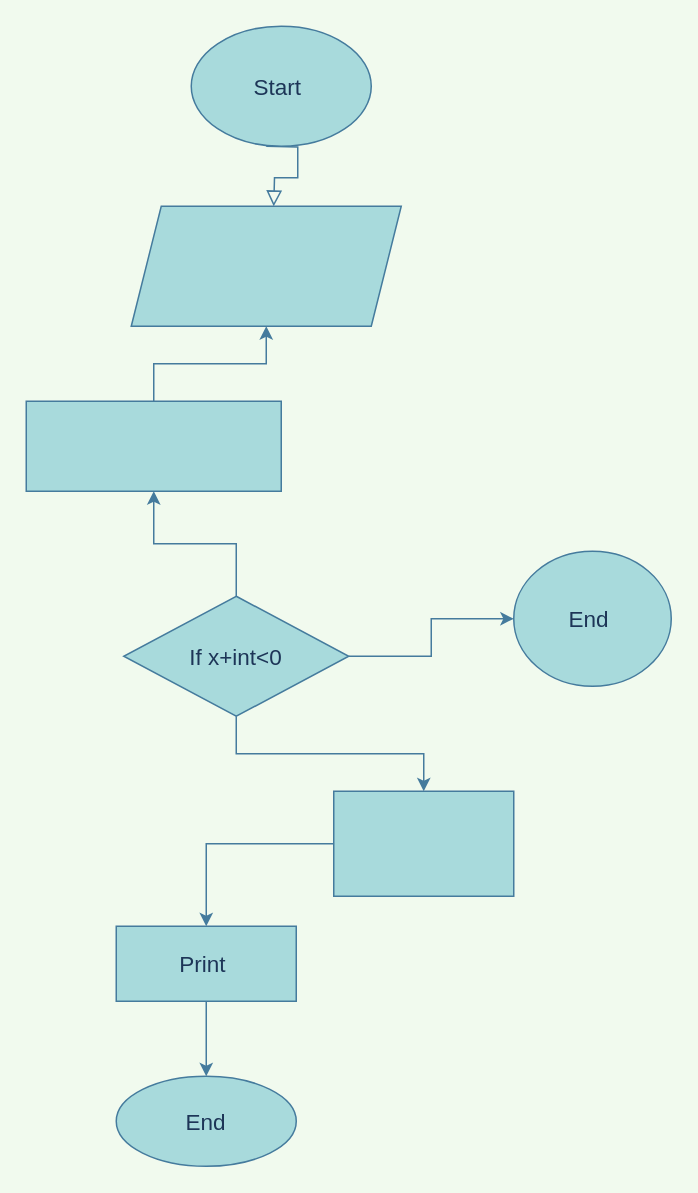
Some shapes in this 698 by 1193 pixel diagram are drawn without their labels. Each missing label, with the centre of its shape:
"If r=x while x is> 0 sum=r*r" goes at point 423,843.
"Initialize Int=x" goes at point 153,445.
"Input Int X" goes at point 265,265.
